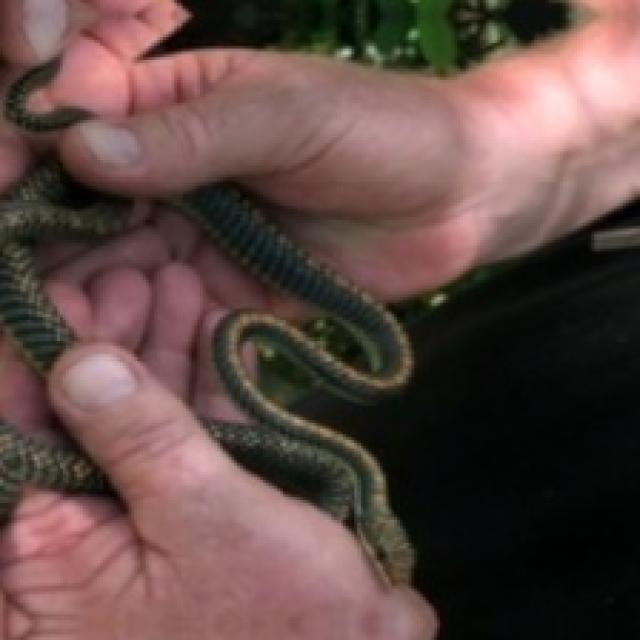paradise tree snake: (0, 151, 411, 583), (0, 414, 123, 551)
